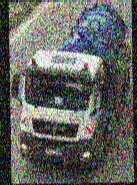truck: (10, 0, 133, 171)
